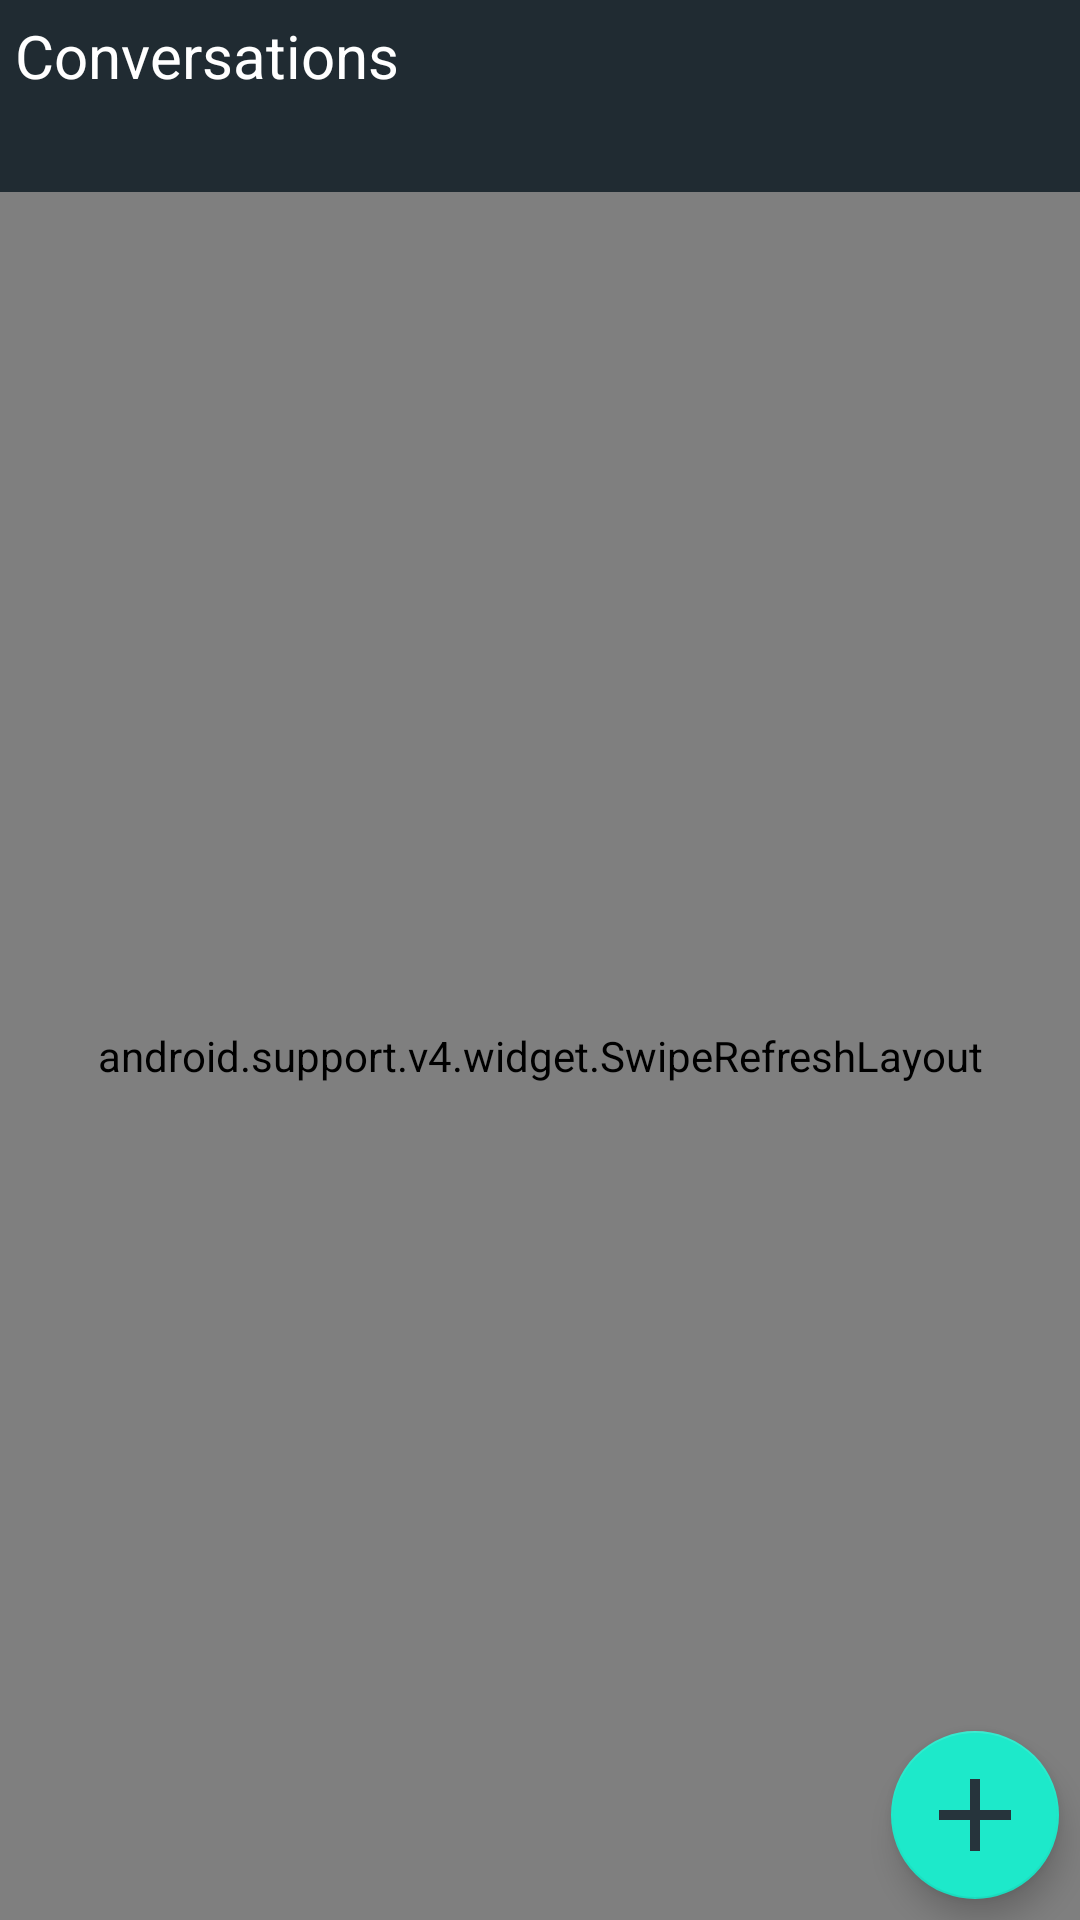

Screen size 1080px×1920px. Icon name, then its box in pixels as (x1, y1, x2, y2):
add: (891, 1731, 1059, 1899)
